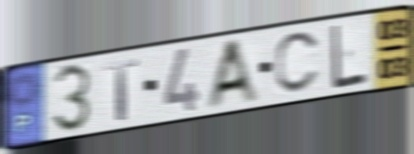3: (49, 62, 93, 135)
4: (161, 45, 201, 116)
A: (203, 36, 263, 110)
C: (273, 29, 323, 97)
L: (330, 21, 369, 92)
T: (103, 56, 142, 123)
